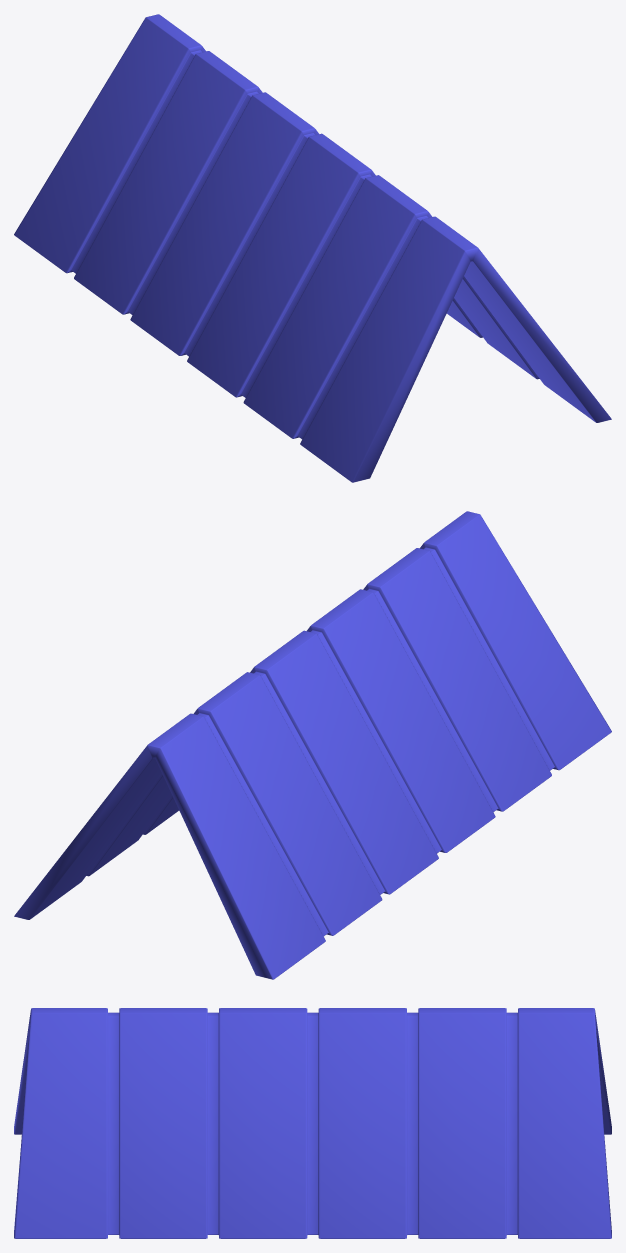
The model's file is FM_H_SH_01_Top_Shed_001.fbx.
The picture shows the model from 3 angles, top to bottom: view 1: azimuth 30°, elevation 25°; view 2: azimuth 150°, elevation 25°; view 3: azimuth 270°, elevation 25°; orthographic projection. The views are drawn at different scales.
Visible parts, largest first — view 1: FM_H_SH_01_Top_Shed_001; view 2: FM_H_SH_01_Top_Shed_001; view 3: FM_H_SH_01_Top_Shed_001.
Part boxes in pixels (left/top/right/bottom): FM_H_SH_01_Top_Shed_001: left=14, top=14, right=611, bottom=482; FM_H_SH_01_Top_Shed_001: left=14, top=511, right=611, bottom=979; FM_H_SH_01_Top_Shed_001: left=14, top=1008, right=611, bottom=1238.
Bounding box in the file's own units: 3.83 × 2.75 × 8.66.
